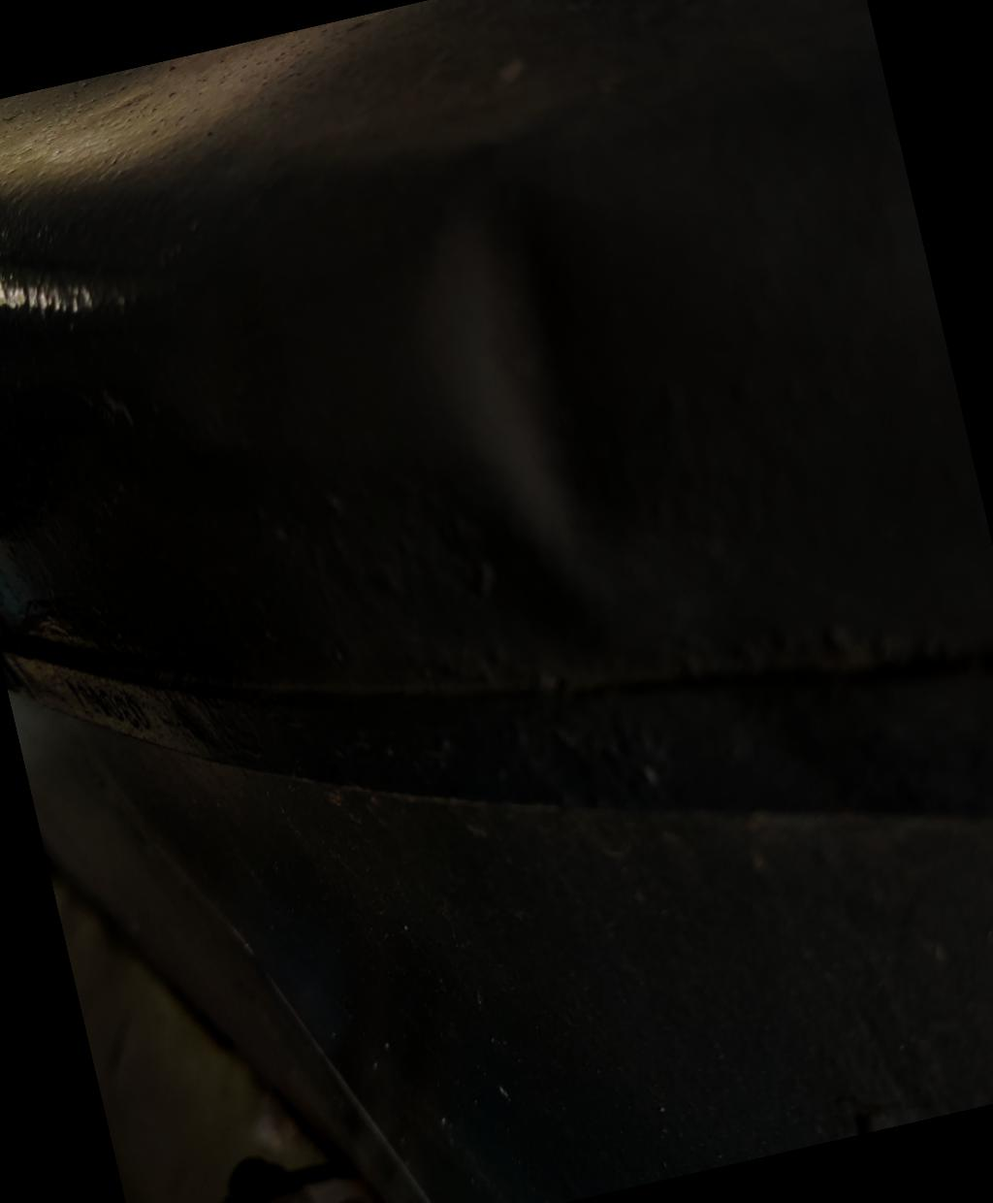dent: (360, 122, 747, 634)
